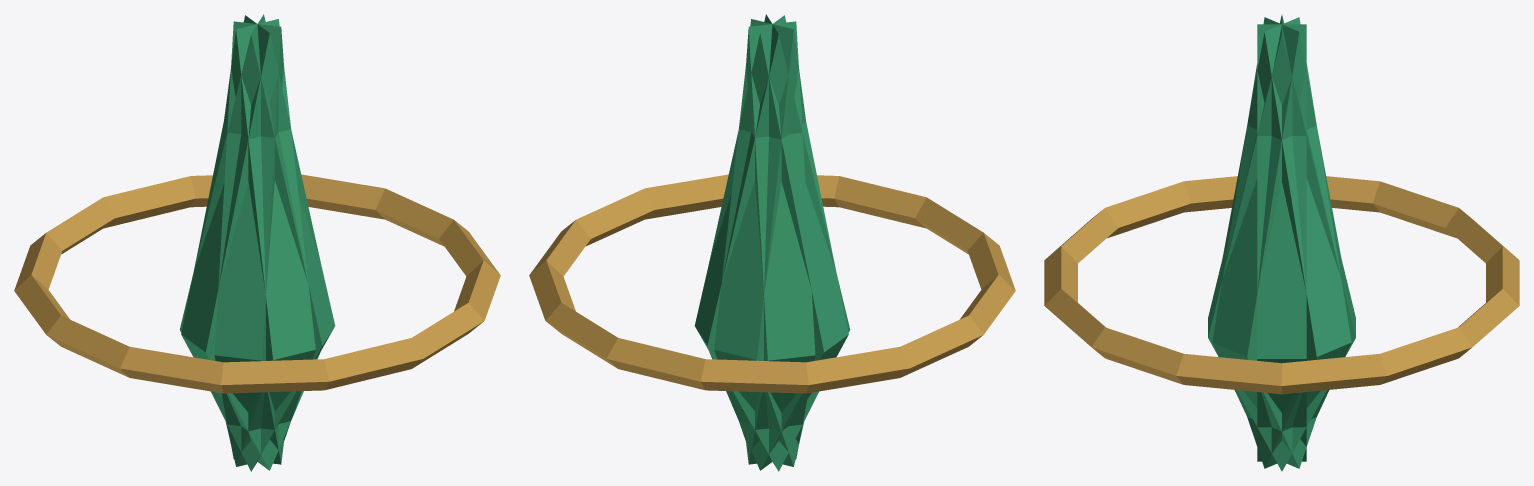
Rendered from lotus_petal_shell.obj.
The picture shows the model from 3 angles, left to right: view 1: azimuth 30°, elevation 25°; view 2: azimuth 150°, elevation 25°; view 3: azimuth 270°, elevation 25°; orthographic projection.
Visible parts, largest first — view 1: lotus_shell_rim, shell_petal_1_lotus_shell_petal_edge, shell_petal_2_lotus_shell_petal_edge, shell_petal_0_lotus_shell_petal_edge, shell_petal_3_lotus_shell_petal, shell_petal_0_lotus_shell_petal, shell_petal_5_lotus_shell_petal_edge, shell_petal_3_lotus_shell_petal_edge, shell_petal_6_lotus_shell_petal_edge, shell_petal_4_lotus_shell_petal_edge, shell_petal_2_lotus_shell_petal, shell_petal_7_lotus_shell_petal_edge (+1 smaller); view 2: lotus_shell_rim, shell_petal_3_lotus_shell_petal_edge, shell_petal_2_lotus_shell_petal_edge, shell_petal_0_lotus_shell_petal_edge, shell_petal_1_lotus_shell_petal, shell_petal_0_lotus_shell_petal, shell_petal_7_lotus_shell_petal_edge, shell_petal_6_lotus_shell_petal_edge, shell_petal_1_lotus_shell_petal_edge, shell_petal_4_lotus_shell_petal_edge, shell_petal_2_lotus_shell_petal, shell_petal_5_lotus_shell_petal_edge (+1 smaller); view 3: lotus_shell_rim, shell_petal_0_lotus_shell_petal_edge, shell_petal_1_lotus_shell_petal_edge, shell_petal_3_lotus_shell_petal_edge, shell_petal_2_lotus_shell_petal, shell_petal_1_lotus_shell_petal, shell_petal_3_lotus_shell_petal, shell_petal_4_lotus_shell_petal_edge, shell_petal_7_lotus_shell_petal_edge, shell_petal_5_lotus_shell_petal_edge, shell_petal_2_lotus_shell_petal_edge.
Boxes of the visible parts, bbox=[...] form: lotus_shell_rim: bbox=[14, 174, 500, 393]; shell_petal_1_lotus_shell_petal_edge: bbox=[214, 21, 281, 464]; shell_petal_2_lotus_shell_petal_edge: bbox=[236, 19, 315, 466]; shell_petal_0_lotus_shell_petal_edge: bbox=[181, 15, 269, 469]; shell_petal_3_lotus_shell_petal: bbox=[179, 34, 322, 471]; shell_petal_0_lotus_shell_petal: bbox=[206, 33, 320, 470]; shell_petal_5_lotus_shell_petal_edge: bbox=[215, 21, 280, 464]; shell_petal_3_lotus_shell_petal_edge: bbox=[251, 14, 334, 468]; shell_petal_6_lotus_shell_petal_edge: bbox=[237, 20, 314, 465]; shell_petal_4_lotus_shell_petal_edge: bbox=[182, 16, 268, 468]; shell_petal_2_lotus_shell_petal: bbox=[224, 29, 272, 466]; shell_petal_7_lotus_shell_petal_edge: bbox=[252, 15, 334, 357]; lotus_shell_rim: bbox=[529, 174, 1015, 393]; shell_petal_3_lotus_shell_petal_edge: bbox=[748, 21, 815, 464]; shell_petal_2_lotus_shell_petal_edge: bbox=[714, 19, 793, 466]; shell_petal_0_lotus_shell_petal_edge: bbox=[760, 15, 848, 470]; shell_petal_1_lotus_shell_petal: bbox=[707, 34, 850, 471]; shell_petal_0_lotus_shell_petal: bbox=[709, 33, 823, 470]; shell_petal_7_lotus_shell_petal_edge: bbox=[749, 22, 814, 463]; shell_petal_6_lotus_shell_petal_edge: bbox=[714, 19, 793, 465]; shell_petal_1_lotus_shell_petal_edge: bbox=[694, 14, 778, 468]; shell_petal_4_lotus_shell_petal_edge: bbox=[760, 16, 847, 469]; shell_petal_2_lotus_shell_petal: bbox=[757, 29, 805, 466]; shell_petal_5_lotus_shell_petal_edge: bbox=[695, 15, 778, 356]; lotus_shell_rim: bbox=[1044, 176, 1519, 394]; shell_petal_0_lotus_shell_petal_edge: bbox=[1257, 24, 1306, 461]; shell_petal_1_lotus_shell_petal_edge: bbox=[1264, 17, 1351, 468]; shell_petal_3_lotus_shell_petal_edge: bbox=[1212, 17, 1299, 468]; shell_petal_2_lotus_shell_petal: bbox=[1208, 35, 1355, 471]; shell_petal_1_lotus_shell_petal: bbox=[1223, 32, 1316, 468]; shell_petal_3_lotus_shell_petal: bbox=[1247, 32, 1340, 468]; shell_petal_4_lotus_shell_petal_edge: bbox=[1257, 24, 1306, 461]; shell_petal_7_lotus_shell_petal_edge: bbox=[1212, 18, 1298, 466]; shell_petal_5_lotus_shell_petal_edge: bbox=[1265, 17, 1350, 467]; shell_petal_2_lotus_shell_petal_edge: bbox=[1208, 15, 1355, 337].
Size of the model in its own units: 0.99 by 0.98 by 0.9652.
